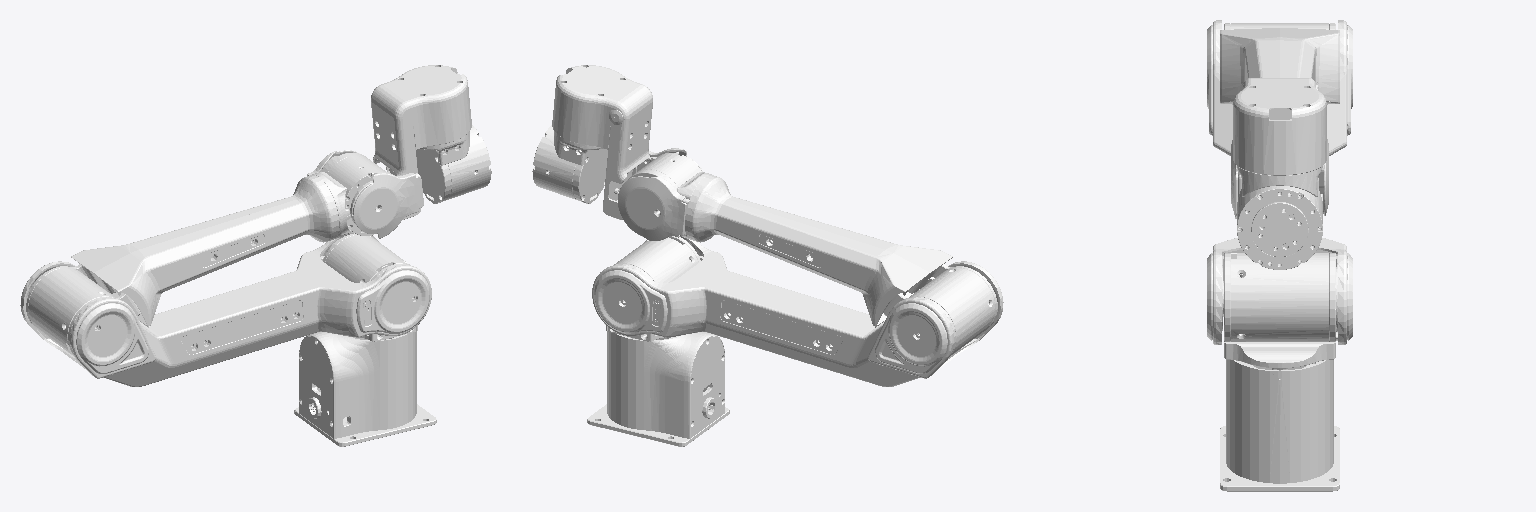
The robot description file, URDF, robot "piper_x_description":
<?xml version="1.0" encoding="utf-8"?>
<!-- This URDF was automatically created by SolidWorks to URDF Exporter! Originally created by Stephen Brawner (brawner@gmail.com) 
     Commit Version: 1.6.0-4-g7f85cfe  Build Version: 1.6.7995.38578
     For more information, please see http://wiki.ros.org/sw_urdf_exporter -->
<robot
  name="piper_x_description">
  <link
    name="base_link">
    <inertial>
      <origin
        xyz="-0.0126041939829763 5.54378915355708E-05 0.03490295880934"
        rpy="0 0 0" />
      <mass
        value="0.15430453053243" />
      <inertia
        ixx="0.000209963861841718"
        ixy="1.93888314194294E-07"
        ixz="5.66013268562016E-06"
        iyy="0.000252411729641135"
        iyz="1.82532574898688E-07"
        izz="0.000217052419209593" />
    </inertial>
    <visual>
      <origin
        xyz="0 0 0"
        rpy="0 0 0" />
      <geometry>
        <mesh
          filename="package://piper_x_description/meshes/base_link.STL" />
      </geometry>
      <material
        name="">
        <color
          rgba="1 1 1 1" />
      </material>
    </visual>
    <collision>
      <origin
        xyz="0 0 0"
        rpy="0 0 0" />
      <geometry>
        <mesh
          filename="package://piper_x_description/meshes/base_link.STL" />
      </geometry>
    </collision>
  </link>
  <link
    name="link1">
    <inertial>
      <origin
        xyz="0.000925732875974177 -0.00862849095155749 -0.000485470942380176"
        rpy="0 0 0" />
      <mass
        value="0.105313818325577" />
      <inertia
        ixx="8.08851684199226E-05"
        ixy="4.48968566614888E-07"
        ixz="-9.75082852544931E-08"
        iyy="8.12302747286035E-05"
        iyz="-3.08260544320402E-06"
        izz="6.54796006846558E-05" />
    </inertial>
    <visual>
      <origin
        xyz="0 0 0"
        rpy="0 0 0" />
      <geometry>
        <mesh
          filename="package://piper_x_description/meshes/link1.STL" />
      </geometry>
      <material
        name="">
        <color
          rgba="1 1 1 1" />
      </material>
    </visual>
    <collision>
      <origin
        xyz="0 0 0"
        rpy="0 0 0" />
      <geometry>
        <mesh
          filename="package://piper_x_description/meshes/link1.STL" />
      </geometry>
    </collision>
  </link>
  <joint
    name="joint1"
    type="revolute">
    <origin
      xyz="-0.00235357845905044 0.000777928765553683 0.119"
      rpy="1.5707963267949 0 0" />
    <parent
      link="base_link" />
    <child
      link="link1" />
    <axis
      xyz="0 -1 0" />
    <limit
      lower="-2.618"
      upper="2.618"
      effort="100"
      velocity="10" />
  </joint>
  <link
    name="link2">
    <inertial>
      <origin
        xyz="-0.17904 0.0097492 -0.001744"
        rpy="0 0 0" />
      <mass
        value="0.30648" />
      <inertia
        ixx="0.00029347"
        ixy="0.00012107"
        ixz="-2.1475E-06"
        iyy="0.0017456"
        iyz="1.2555E-06"
        izz="0.0016867" />
    </inertial>
    <visual>
      <origin
        xyz="0 0 0"
        rpy="0 0 0" />
      <geometry>
        <mesh
          filename="package://piper_x_description/meshes/link2.STL" />
      </geometry>
      <material
        name="">
        <color
          rgba="1 1 1 1" />
      </material>
    </visual>
    <collision>
      <origin
        xyz="0 0 0"
        rpy="0 0 0" />
      <geometry>
        <mesh
          filename="package://piper_x_description/meshes/link2.STL" />
      </geometry>
    </collision>
  </link>
  <joint
    name="joint2"
    type="revolute">
    <origin
      xyz="0 0 0"
      rpy="0 0 0" />
    <parent
      link="link1" />
    <child
      link="link2" />
    <axis
      xyz="0 0 -1" />
    <limit
      lower="0"
      upper="3.14"
      effort="100"
      velocity="10" />
  </joint>
  <link
    name="link3">
    <inertial>
      <origin
        xyz="0.16199 -0.035535 -0.00079759"
        rpy="0 0 0" />
      <mass
        value="0.16677" />
      <inertia
        ixx="5.7648E-05"
        ixy="3.2988E-05"
        ixz="-7.1843E-07"
        iyy="0.00029356"
        iyz="5.2332E-07"
        izz="0.00031856" />
    </inertial>
    <visual>
      <origin
        xyz="0 0 0"
        rpy="0 0 0" />
      <geometry>
        <mesh
          filename="package://piper_x_description/meshes/link3.STL" />
      </geometry>
      <material
        name="">
        <color
          rgba="1 1 1 1" />
      </material>
    </visual>
    <collision>
      <origin
        xyz="0 0 0"
        rpy="0 0 0" />
      <geometry>
        <mesh
          filename="package://piper_x_description/meshes/link3.STL" />
      </geometry>
    </collision>
  </link>
  <joint
    name="joint3"
    type="revolute">
    <origin
      xyz="-0.2828 0.035596 0"
      rpy="3.1416 0 0" />
    <parent
      link="link2" />
    <child
      link="link3" />
    <axis
      xyz="0 0 1" />
    <limit
      lower="-2.9671"
      upper="0"
      effort="100"
      velocity="10" />
  </joint>
  <link
    name="link4">
    <inertial>
      <origin
        xyz="-0.041038 -0.0012729 0.042023"
        rpy="0 0 0" />
      <mass
        value="0.10451" />
      <inertia
        ixx="9.3394E-05"
        ixy="1.9372E-05"
        ixz="3.9688E-05"
        iyy="0.00015664"
        iyz="-1.4432E-05"
        izz="0.00013616" />
    </inertial>
    <visual>
      <origin
        xyz="0 0 0"
        rpy="0 0 0" />
      <geometry>
        <mesh
          filename="package://piper_x_description/meshes/link4.STL" />
      </geometry>
      <material
        name="">
        <color
          rgba="1 1 1 1" />
      </material>
    </visual>
    <collision>
      <origin
        xyz="0 0 0"
        rpy="0 0 0" />
      <geometry>
        <mesh
          filename="package://piper_x_description/meshes/link4.STL" />
      </geometry>
    </collision>
  </link>
  <joint
    name="joint4"
    type="revolute">
    <origin
      xyz="0.2693 -0.048542 -0.0042488"
      rpy="1.5708 0 1.5708" />
    <parent
      link="link3" />
    <child
      link="link4" />
    <axis
      xyz="-0.15319 0 0.9882" />
    <limit
      lower="-1.57"
      upper="1.57"
      effort="100"
      velocity="10" />
  </joint>
  <link
    name="link5">
    <inertial>
      <origin
        xyz="0.012394 0.00014247 -0.010422"
        rpy="0 0 0" />
      <mass
        value="0.053458" />
      <inertia
        ixx="3.445E-05"
        ixy="1.3302E-07"
        ixz="-4.2275E-06"
        iyy="3.1611E-05"
        iyz="-6.5037E-08"
        izz="2.5657E-05" />
    </inertial>
    <visual>
      <origin
        xyz="0 0 0"
        rpy="0 0 0" />
      <geometry>
        <mesh
          filename="package://piper_x_description/meshes/link5.STL" />
      </geometry>
      <material
        name="">
        <color
          rgba="1 1 1 1" />
      </material>
    </visual>
    <collision>
      <origin
        xyz="0 0 0"
        rpy="0 0 0" />
      <geometry>
        <mesh
          filename="package://piper_x_description/meshes/link5.STL" />
      </geometry>
    </collision>
  </link>
  <joint
    name="joint5"
    type="revolute">
    <origin
      xyz="-0.0071013 0.0034704 0.072275"
      rpy="0 -1.4729 -3.1416" />
    <parent
      link="link4" />
    <child
      link="link5" />
    <axis
      xyz="0 0 1" />
    <limit
      lower="-1.57"
      upper="1.57"
      effort="100"
      velocity="10" />
  </joint>
  <link
    name="link6">
    <inertial>
      <origin
        xyz="0.00034286 -4.9015E-15 -0.0034905"
        rpy="0 0 0" />
      <mass
        value="0.0061311" />
      <inertia
        ixx="5.2128E-07"
        ixy="1.4459E-23"
        ixz="-4.5385E-08"
        iyy="5.1682E-07"
        iyz="-2.4915E-23"
        izz="9.7886E-07" />
    </inertial>
    <visual>
      <origin
        xyz="0 0 0"
        rpy="0 0 0" />
      <geometry>
        <mesh
          filename="package://piper_x_description/meshes/link6.STL" />
      </geometry>
      <material
        name="">
        <color
          rgba="1 1 1 1" />
      </material>
    </visual>
    <collision>
      <origin
        xyz="0 0 0"
        rpy="0 0 0" />
      <geometry>
        <mesh
          filename="package://piper_x_description/meshes/link6.STL" />
      </geometry>
    </collision>
  </link>
  <joint
    name="joint6"
    type="revolute">
    <origin
      xyz="0.0393 0 0"
      rpy="0 -1.4729 3.1416" />
    <parent
      link="link5" />
    <child
      link="link6" />
    <axis
      xyz="0.097757 0 -0.99521" />
    <limit
      lower="-3.14"
      upper="3.14"
      effort="100"
      velocity="10" />
  </joint>
</robot>

--- Render facts (derived) ---
3 views of the same robot in one strip: view 1: azimuth 30°, elevation 25°; view 2: azimuth 150°, elevation 25°; view 3: azimuth 270°, elevation 25° (orthographic).
Robot: piper_x_description — 7 links, 6 joints (6 revolute); root link base_link; default pose: all joints at 0.
Links seen in each view (by area): view 1: link2, link3, base_link, link4, link5, link1; view 2: link2, link3, base_link, link4, link5, link1; view 3: base_link, link1, link4, link2, link3, link5, link6.
Link boxes in pixels (x1,y1,x2,y2): link2: [20, 231, 431, 386]; link3: [26, 150, 385, 351]; base_link: [294, 331, 436, 446]; link4: [350, 65, 471, 238]; link5: [416, 125, 491, 203]; link1: [323, 233, 417, 341]; link2: [592, 236, 1003, 386]; link3: [618, 153, 997, 351]; base_link: [587, 331, 729, 446]; link4: [552, 65, 702, 219]; link5: [532, 125, 607, 203]; link1: [606, 236, 700, 341]; base_link: [1220, 360, 1339, 491]; link1: [1224, 253, 1337, 370]; link4: [1231, 78, 1326, 218]; link2: [1207, 20, 1352, 344]; link3: [1220, 23, 1339, 215]; link5: [1237, 166, 1322, 269]; link6: [1251, 202, 1308, 256].
Bounding box of the posed robot: 0.414 × 0.097 × 0.2982 m (x, y, z).
7 mesh visuals loaded from 7 distinct referenced files (7 binary STL).
